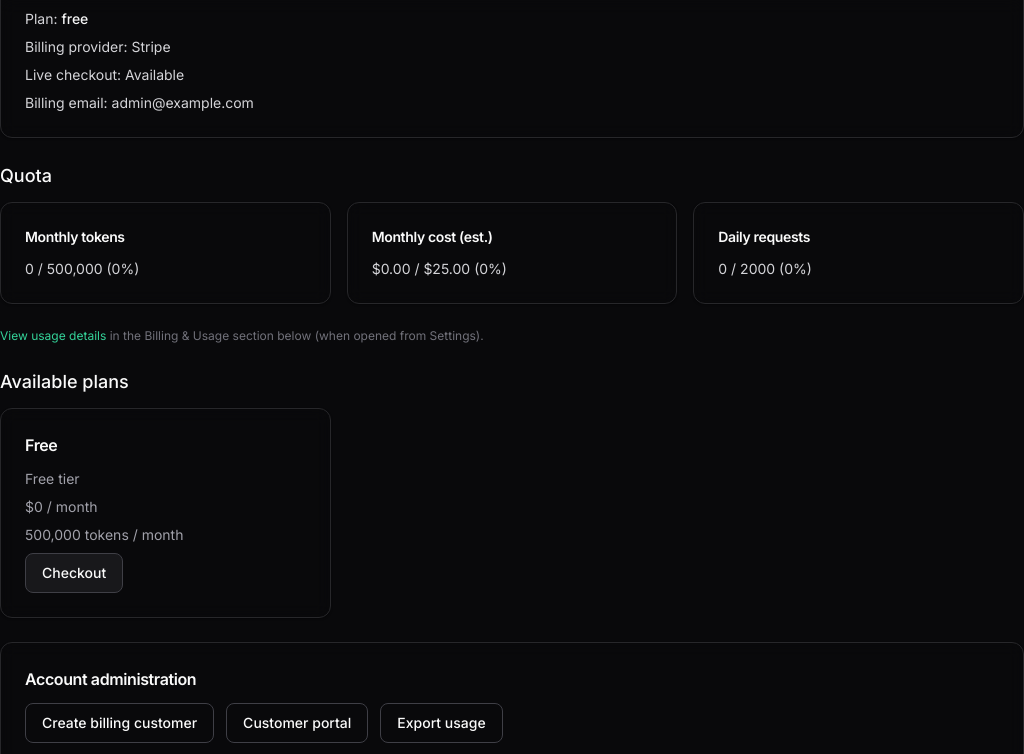
Test: BillingPageView product voice › opens customer portal via link and keeps mock portal explicitly simulated
The image size is (1024, 754).
(page scrolled)
Click the button "Customer portal". click: (297, 723)
box: [226,703,368,743]
(page scrolled)
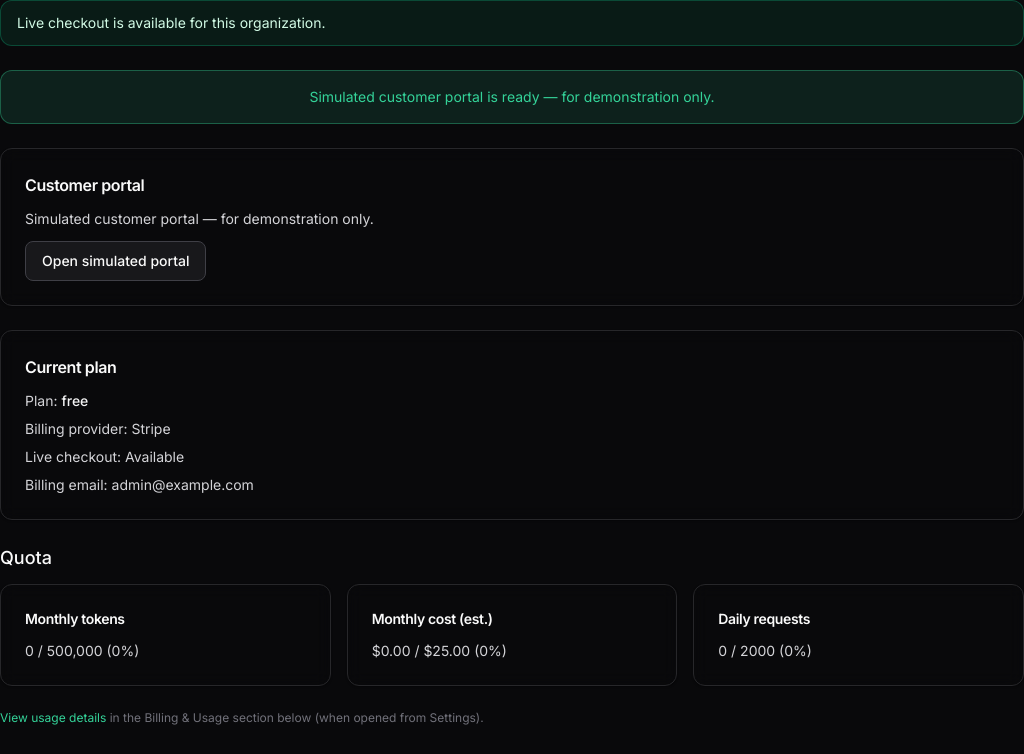
Result: the text with test id "billing-link-caption" shows "Simulated customer portal" at [25,210,374,227]
